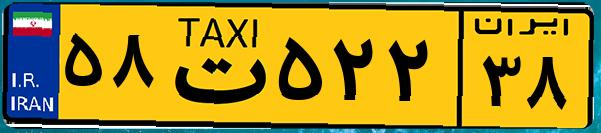2: (385, 28, 445, 110), (330, 28, 385, 110)
3: (475, 38, 525, 113)
5: (270, 28, 330, 110), (57, 26, 110, 100)
8: (525, 38, 570, 115), (110, 28, 158, 98)
ت: (158, 12, 270, 120)
